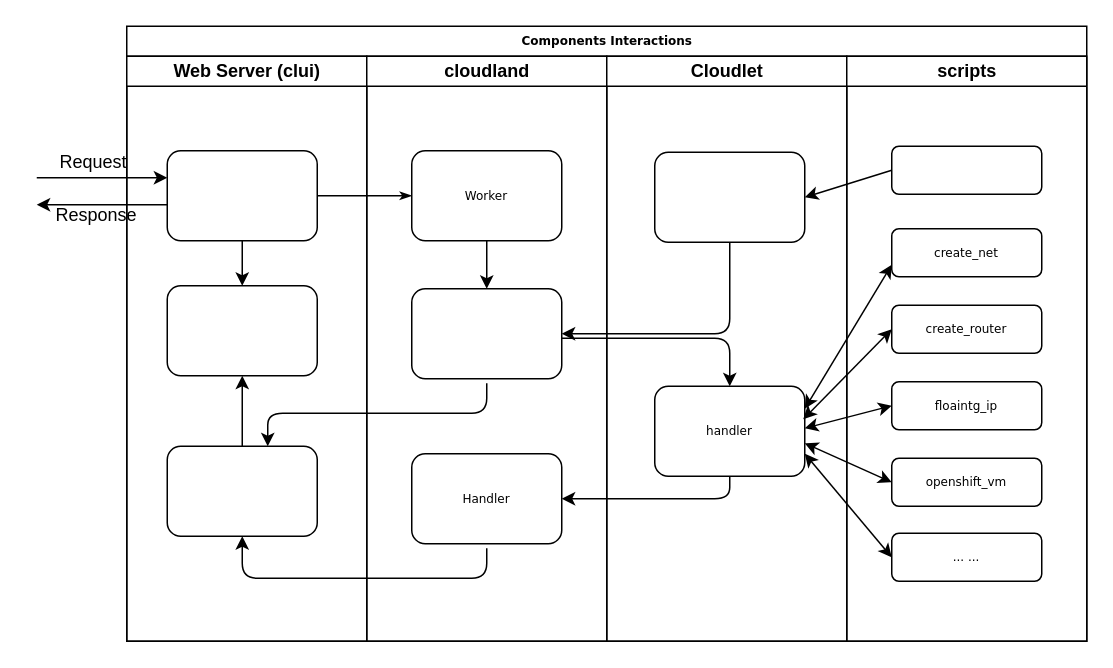
This 1113x668 diagram has some shape labels left out. Here are the shapes that lost their labels. From the top down, the centre of each, then its label:
At point (966, 169): "report_rc".
At point (241, 195): "routes".
At point (729, 196): "main".
At point (241, 330): "database (model)".
At point (486, 333): "Scheduler".
At point (241, 490): "grpcs".
